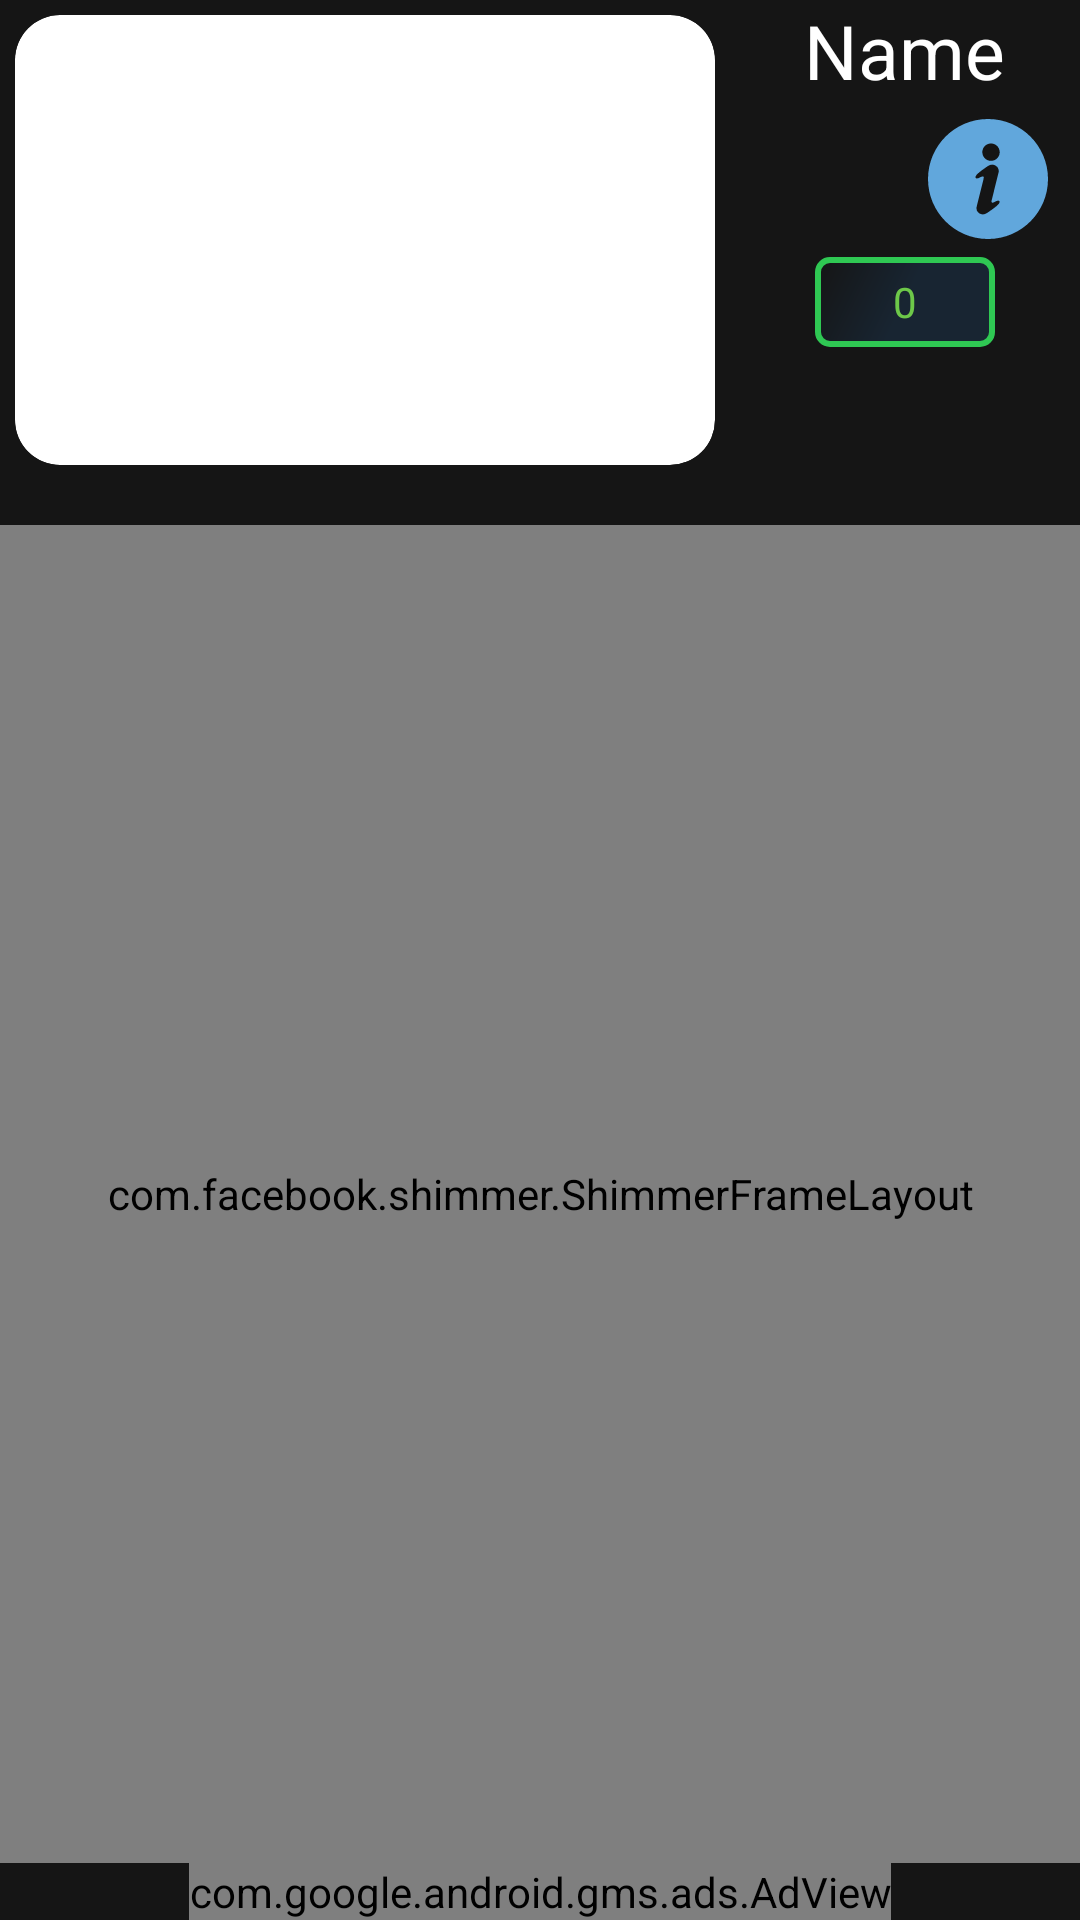

Icons on this 1080px×1920px Android screen, each with the point to tap as (x,y):
info: (988,179)
